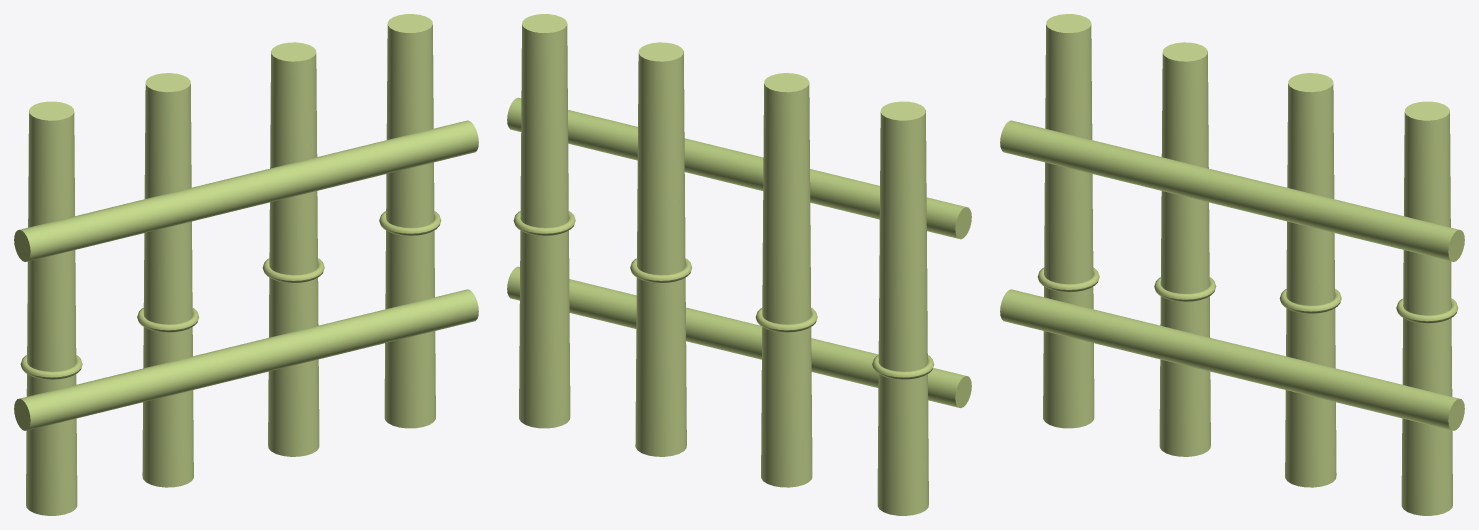
File: rao_tre.glb
The picture shows the model from 3 angles, left to right: view 1: azimuth 30°, elevation 25°; view 2: azimuth 150°, elevation 25°; view 3: azimuth 330°, elevation 25°; orthographic projection.
Parts seen in each view (by area): view 1: Cyl4, Cyl2, Cyl1, Cyl3, Cyl6, Cyl5, Tor4, Tor2, Tor3, Tor1; view 2: Cyl1, Cyl4, Cyl3, Cyl2, Cyl6, Cyl5, Tor4, Tor2, Tor3, Tor1; view 3: Cyl3, Cyl4, Cyl1, Cyl2, Cyl6, Cyl5, Tor4, Tor3, Tor2, Tor1.
Boxes of the visible parts, bbox=[...] form: Cyl4: bbox=[384, 14, 435, 428]; Cyl2: bbox=[142, 73, 193, 487]; Cyl1: bbox=[26, 101, 77, 515]; Cyl3: bbox=[268, 42, 319, 456]; Cyl6: bbox=[14, 120, 478, 261]; Cyl5: bbox=[14, 289, 478, 430]; Tor4: bbox=[379, 211, 441, 235]; Tor2: bbox=[137, 308, 199, 332]; Tor3: bbox=[262, 258, 324, 283]; Tor1: bbox=[20, 355, 82, 379]; Cyl1: bbox=[877, 101, 928, 515]; Cyl4: bbox=[519, 14, 570, 428]; Cyl3: bbox=[635, 42, 686, 456]; Cyl2: bbox=[761, 73, 812, 487]; Cyl6: bbox=[507, 97, 971, 239]; Cyl5: bbox=[507, 266, 971, 407]; Tor4: bbox=[513, 211, 575, 235]; Tor2: bbox=[755, 307, 817, 332]; Tor3: bbox=[630, 258, 692, 283]; Tor1: bbox=[872, 355, 934, 379]; Cyl3: bbox=[1285, 73, 1336, 487]; Cyl4: bbox=[1401, 101, 1452, 515]; Cyl1: bbox=[1043, 14, 1094, 428]; Cyl2: bbox=[1159, 42, 1210, 456]; Cyl6: bbox=[1000, 120, 1464, 261]; Cyl5: bbox=[1000, 289, 1464, 430]; Tor4: bbox=[1396, 298, 1458, 323]; Tor3: bbox=[1279, 289, 1341, 313]; Tor2: bbox=[1154, 277, 1216, 301]; Tor1: bbox=[1037, 267, 1099, 292].
Size of the model in its own units: 0.5 by 0.42 by 0.076.
